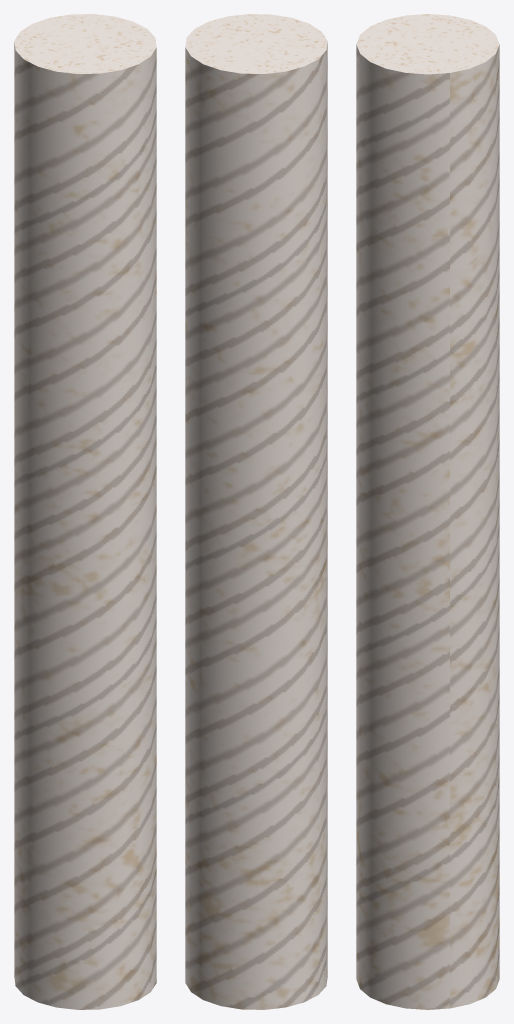
File: hashira_l.fbx
The picture shows the model from 3 angles, left to right: view 1: azimuth 30°, elevation 25°; view 2: azimuth 150°, elevation 25°; view 3: azimuth 270°, elevation 25°; orthographic projection.
Parts seen in each view (by area): view 1: hashira_L; view 2: hashira_L; view 3: hashira_L.
Boxes of the visible parts, x1,y1,x2,y2 form: hashira_L: (14, 14, 156, 1009); hashira_L: (185, 14, 327, 1009); hashira_L: (356, 14, 499, 1009).
Size of the model in its own units: 53.98 by 390 by 53.98.
1 material, 1 textured.
